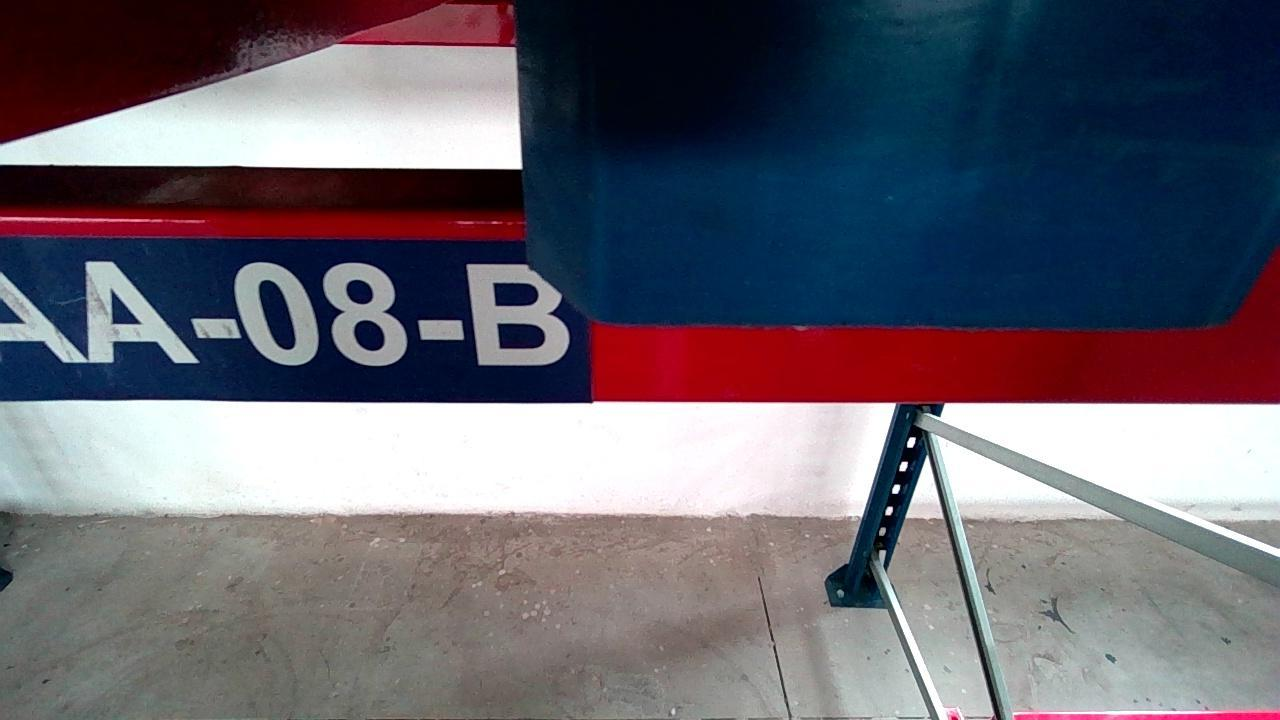h_rack: (2, 221, 1277, 399)
